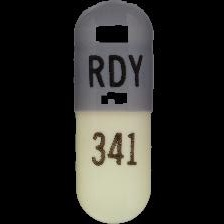33261-825: (0, 0, 224, 224)
